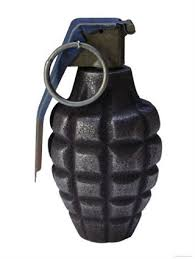e1: (33, 17, 164, 240)
